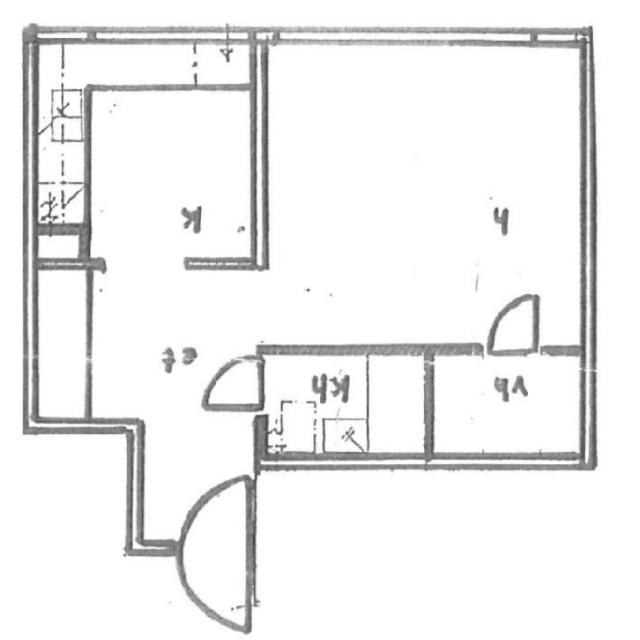door: (175, 552, 257, 636), (173, 471, 257, 552), (200, 354, 260, 416), (488, 298, 538, 358)
zone: (260, 34, 596, 346), (30, 41, 258, 270), (30, 263, 258, 426), (427, 350, 585, 462), (258, 351, 372, 460), (369, 352, 433, 459)
